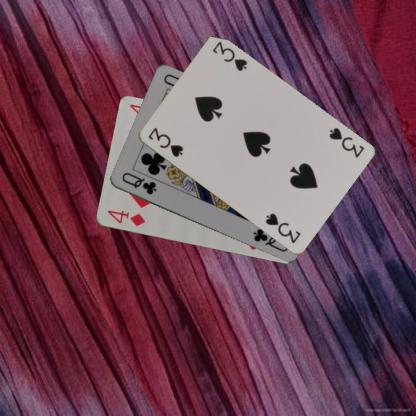3s: (145, 124, 184, 159), (326, 125, 365, 159)
4d: (104, 208, 146, 228)
Qc: (119, 170, 158, 196)
